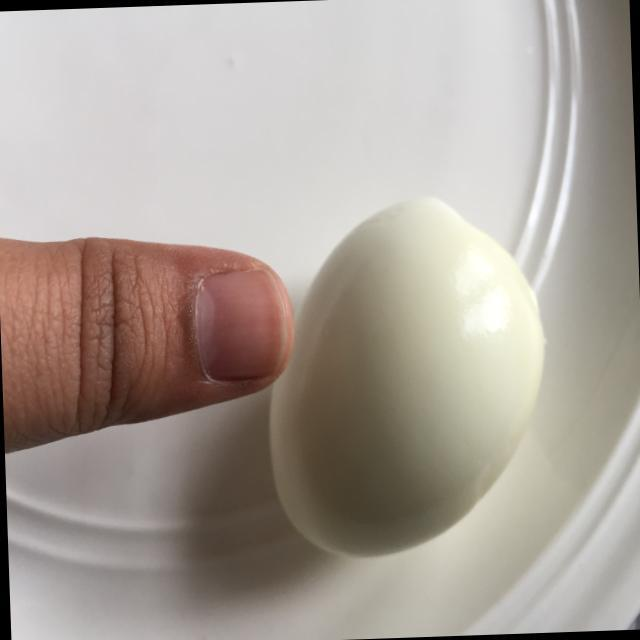Egg: (254, 171, 558, 568)
Finger: (46, 225, 299, 428)
